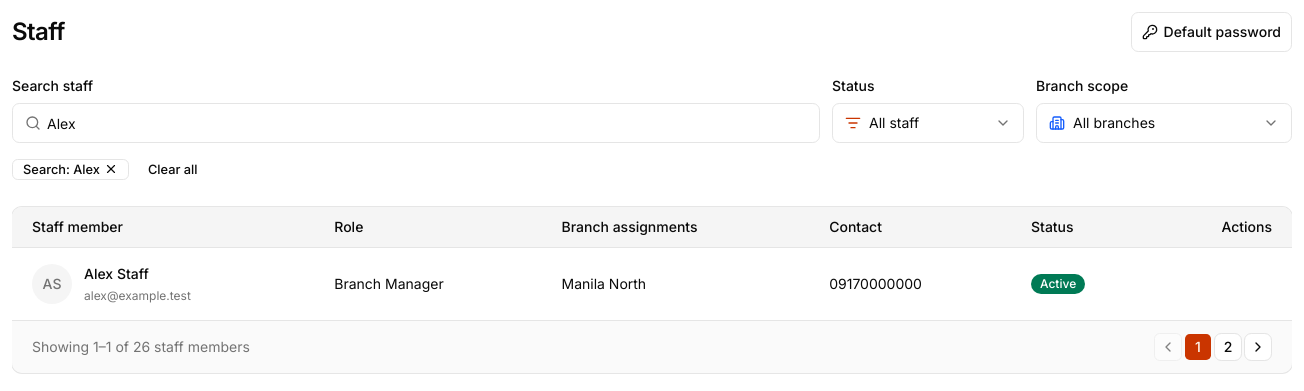
Test: staff directory › offers all-branch filtering only to the protected Super Admin
The width and height of the screenshot is (1304, 391).
Step 1. Click the dropdown named "Branch scope" → (1164, 123), box 1036,103 -> 1292,143
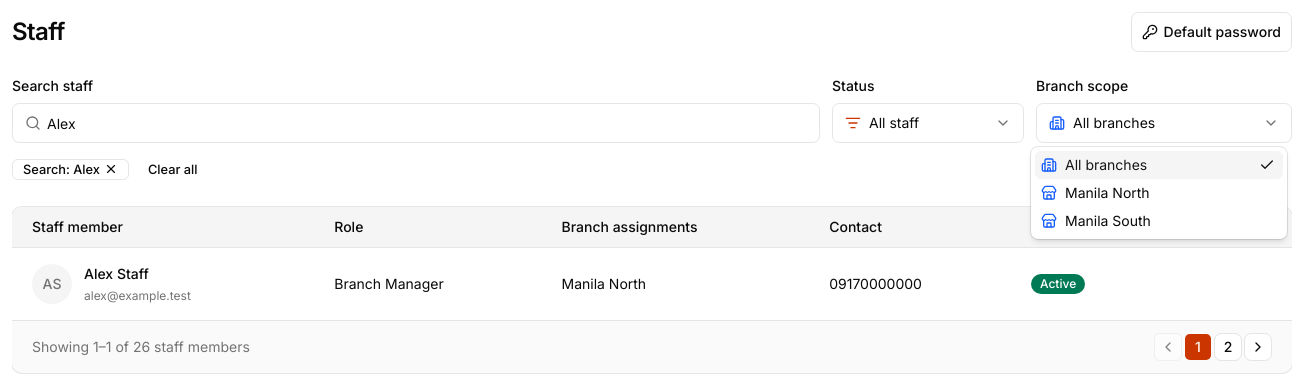
expect the option "All branches" is shown: met, box 1035,151 -> 1283,179
expect the option "Manila North" is shown: met, box 1041,184 -> 1150,201
